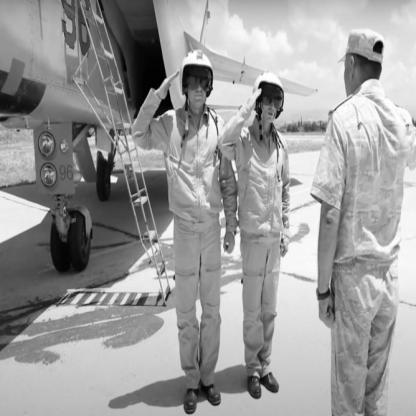Mig31: (2, 2, 319, 274)
